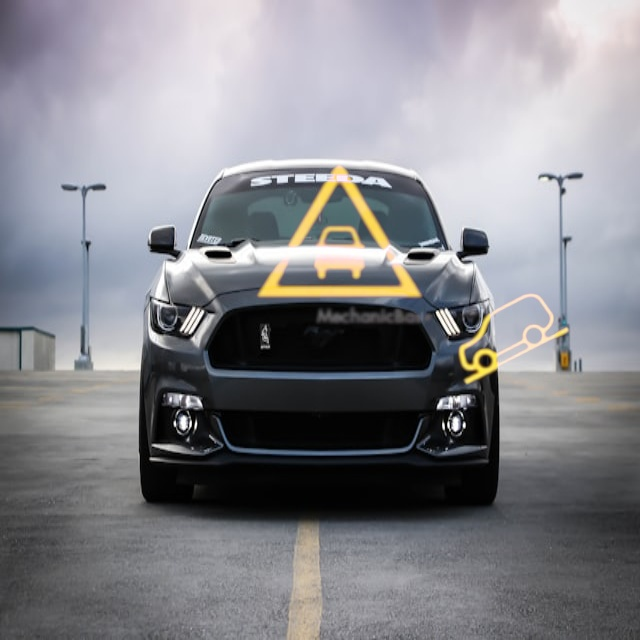symbol: (238, 131, 440, 333), (443, 269, 586, 412)
